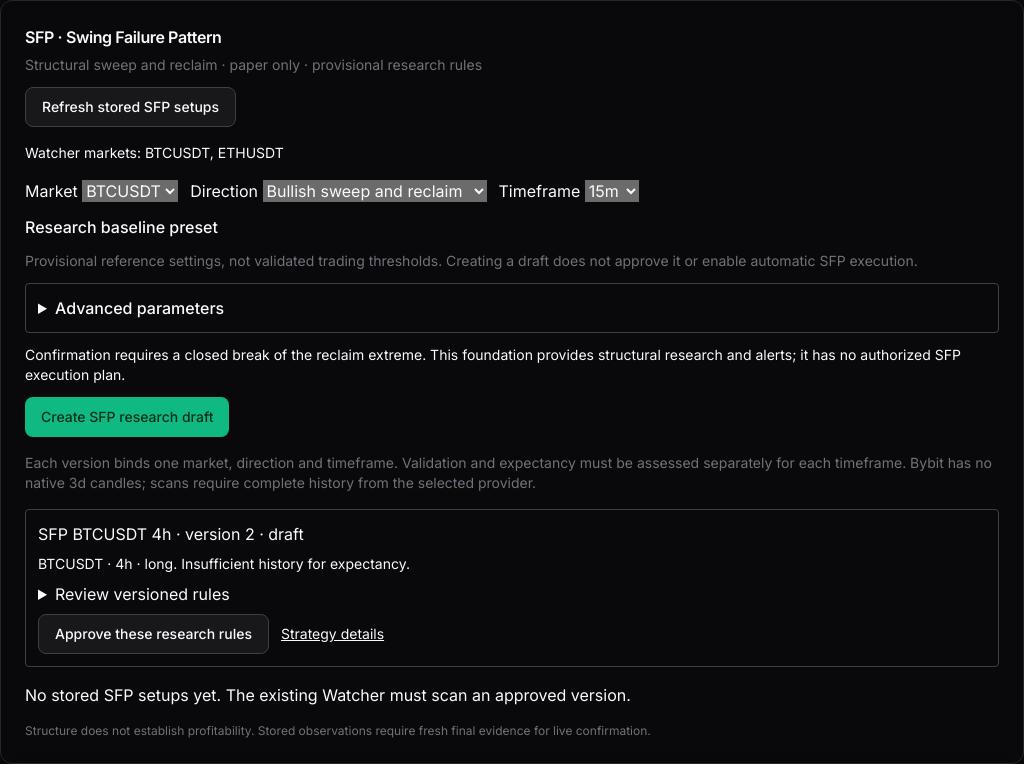
Test case: SFP creation and immutable approval › surfaces approval failures and keeps approval gated
The width and height of the screenshot is (1024, 764).
Click the button "Approve these research rules" at (154, 634), box 38,614 -> 269,654
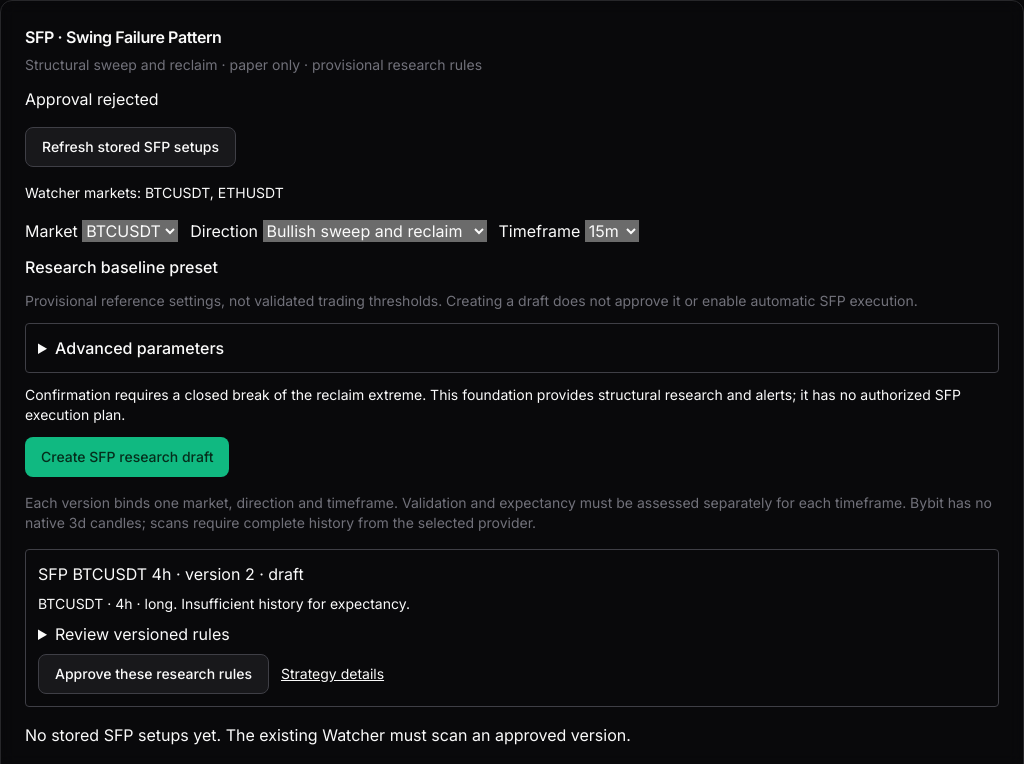
Expected: the message reads "Approval rejected", 25,89 -> 159,109
